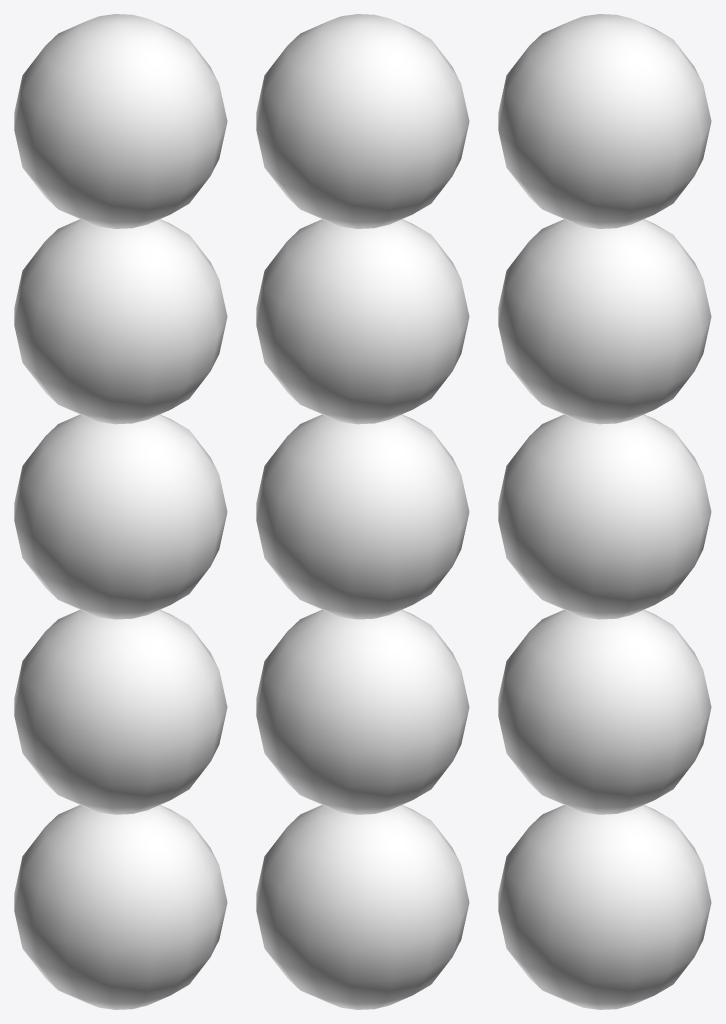
Rendered from Yellow.glb.
3 renders of one model, left to right at view 1: azimuth 30°, elevation 25°; view 2: azimuth 150°, elevation 25°; view 3: azimuth 270°, elevation 25°, orthographic.
Visible parts, largest first — view 1: Yellow; view 2: Yellow; view 3: Yellow.
Boxes of the visible parts, bbox=[...] form: Yellow: bbox=[14, 14, 227, 1009]; Yellow: bbox=[256, 14, 469, 1009]; Yellow: bbox=[498, 14, 711, 1009].
Bounding box in the file's own units: 0.0995 × 0.5 × 0.0989.
1 material, 1 textured.
